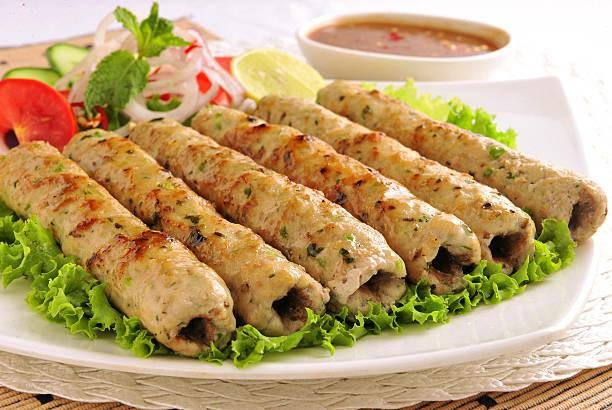Kebab: (61, 129, 330, 336), (190, 104, 482, 294), (130, 119, 407, 318), (253, 93, 533, 283), (0, 141, 235, 358), (315, 80, 608, 248)
